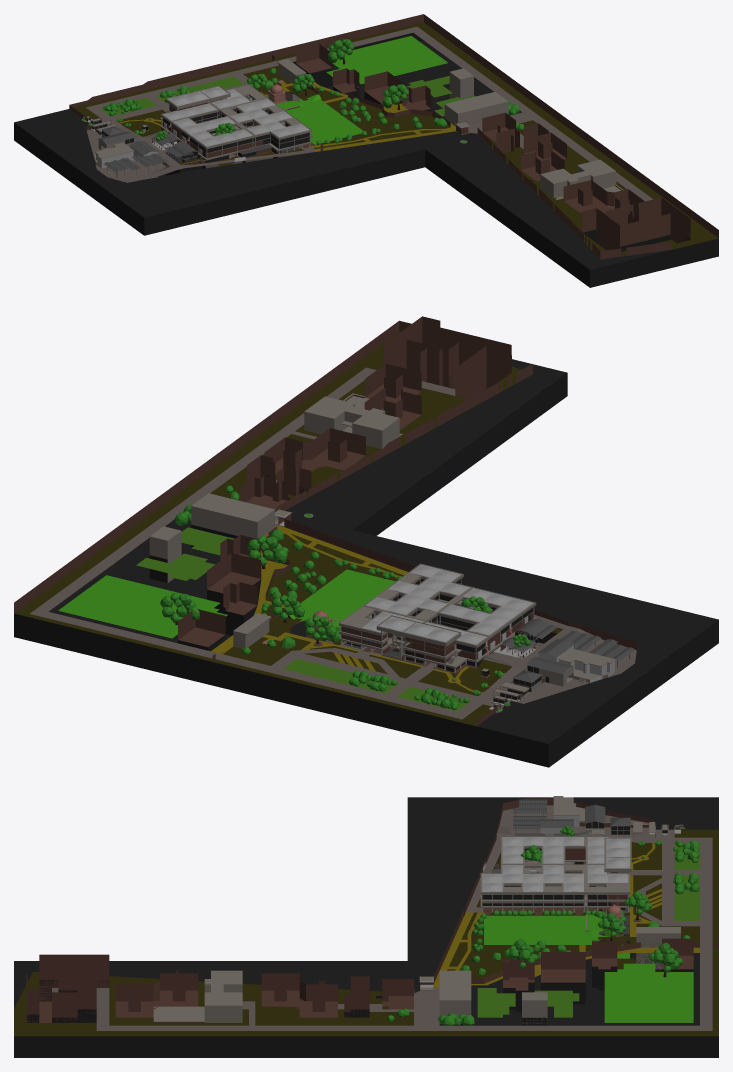
Rendered from Insti_map_Final.glb.
3 renders of one model, top to bottom at view 1: azimuth 30°, elevation 25°; view 2: azimuth 150°, elevation 25°; view 3: azimuth 270°, elevation 25°, orthographic. The views are drawn at different scales.
Parts seen in each view (by area): view 1: Plane.047, Plane.727, Plane.048, Plane.050, Plane.018, Plane.062, Plane.061, Plane.017, Plane.015, Plane.016, Plane.010, Plane.005 (+14 smaller); view 2: Plane.047, Plane.727, Plane.050, Plane.048, Plane.018, Plane.062, Plane.015, Plane.016, Plane.017, Plane.010, Plane.061, Plane.069 (+13 smaller); view 3: Plane.047, Plane.050, Plane.727, Plane.062, Plane.018, Plane.061, Plane.017, Plane.015, Plane.016, Plane.069, Plane.010, Plane.007 (+16 smaller).
Boxes of the visible parts, left/top/right/bottom form: Plane.047: left=14, top=22, right=718, bottom=287; Plane.727: left=160, top=84, right=314, bottom=162; Plane.048: left=69, top=14, right=718, bottom=259; Plane.050: left=86, top=26, right=652, bottom=201; Plane.018: left=582, top=197, right=690, bottom=250; Plane.062: left=326, top=36, right=447, bottom=84; Plane.061: left=286, top=99, right=363, bottom=144; Plane.017: left=563, top=180, right=644, bottom=213; Plane.015: left=521, top=132, right=566, bottom=181; Plane.016: left=540, top=159, right=616, bottom=199; Plane.010: left=444, top=92, right=508, bottom=126; Plane.005: left=296, top=44, right=332, bottom=73; Plane.047: left=14, top=331, right=718, bottom=767; Plane.727: left=339, top=563, right=536, bottom=673; Plane.050: left=30, top=367, right=636, bottom=719; Plane.048: left=14, top=320, right=636, bottom=725; Plane.018: left=384, top=316, right=511, bottom=398; Plane.062: left=58, top=575, right=227, bottom=638; Plane.015: left=264, top=428, right=365, bottom=474; Plane.016: left=304, top=396, right=402, bottom=448; Plane.017: left=364, top=364, right=421, bottom=429; Plane.010: left=191, top=493, right=274, bottom=538; Plane.061: left=293, top=569, right=395, bottom=620; Plane.069: left=136, top=527, right=234, bottom=580; Plane.047: left=14, top=797, right=718, bottom=1057; Plane.050: left=52, top=807, right=712, bottom=1030; Plane.727: left=480, top=836, right=631, bottom=915; Plane.062: left=604, top=963, right=693, bottom=1022; Plane.018: left=26, top=954, right=109, bottom=1022; Plane.061: left=484, top=915, right=598, bottom=944; Plane.017: left=115, top=973, right=198, bottom=1017; Plane.015: left=261, top=973, right=337, bottom=1017; Plane.016: left=204, top=970, right=242, bottom=1022; Plane.069: left=477, top=988, right=579, bottom=1017; Plane.010: left=439, top=970, right=471, bottom=1025; Plane.007: left=541, top=952, right=585, bottom=982.
Size of the model in its own units: 18.31 by 1.84 by 22.83.
